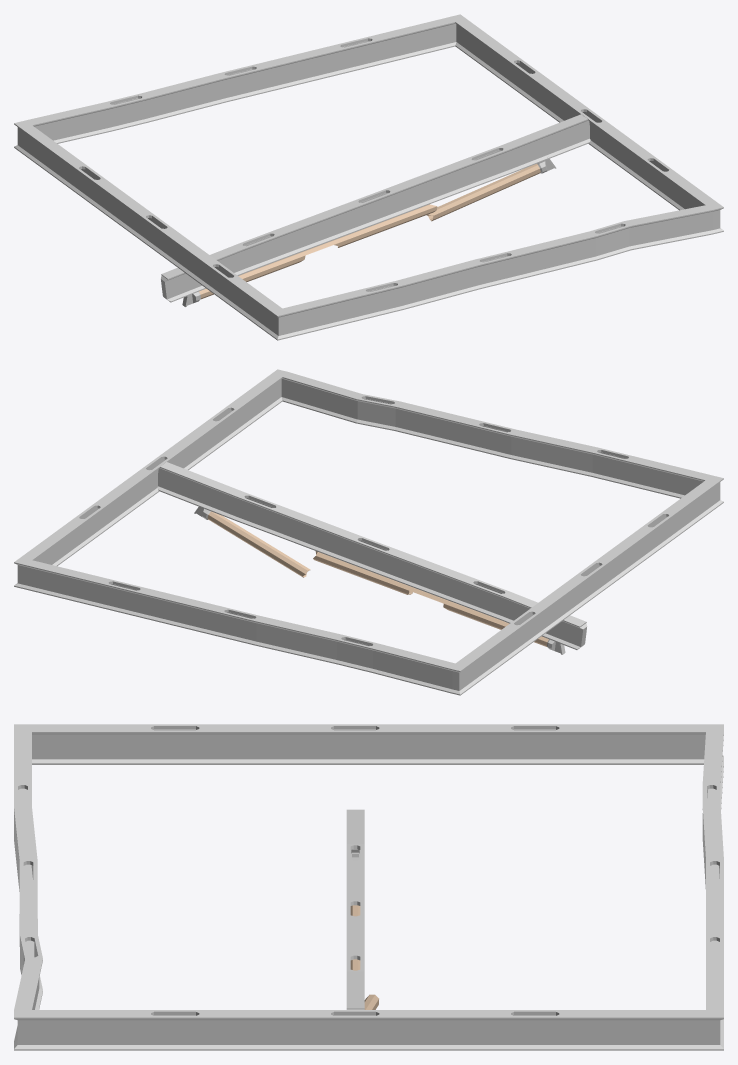
The model's file is SM_Roof_Broken_02.glb.
The picture shows the model from 3 angles, top to bottom: view 1: azimuth 30°, elevation 25°; view 2: azimuth 150°, elevation 25°; view 3: azimuth 270°, elevation 25°; orthographic projection. The views are drawn at different scales.
Visible parts, largest first — view 1: SM_Roof_Broken_02; view 2: SM_Roof_Broken_02; view 3: SM_Roof_Broken_02.
Boxes of the visible parts, <box> form: SM_Roof_Broken_02: <box>14,14,723,340</box>; SM_Roof_Broken_02: <box>14,369,723,695</box>; SM_Roof_Broken_02: <box>14,724,723,1050</box>.
Bounding box in the file's own units: 1.91 × 0.3753 × 1.95.
